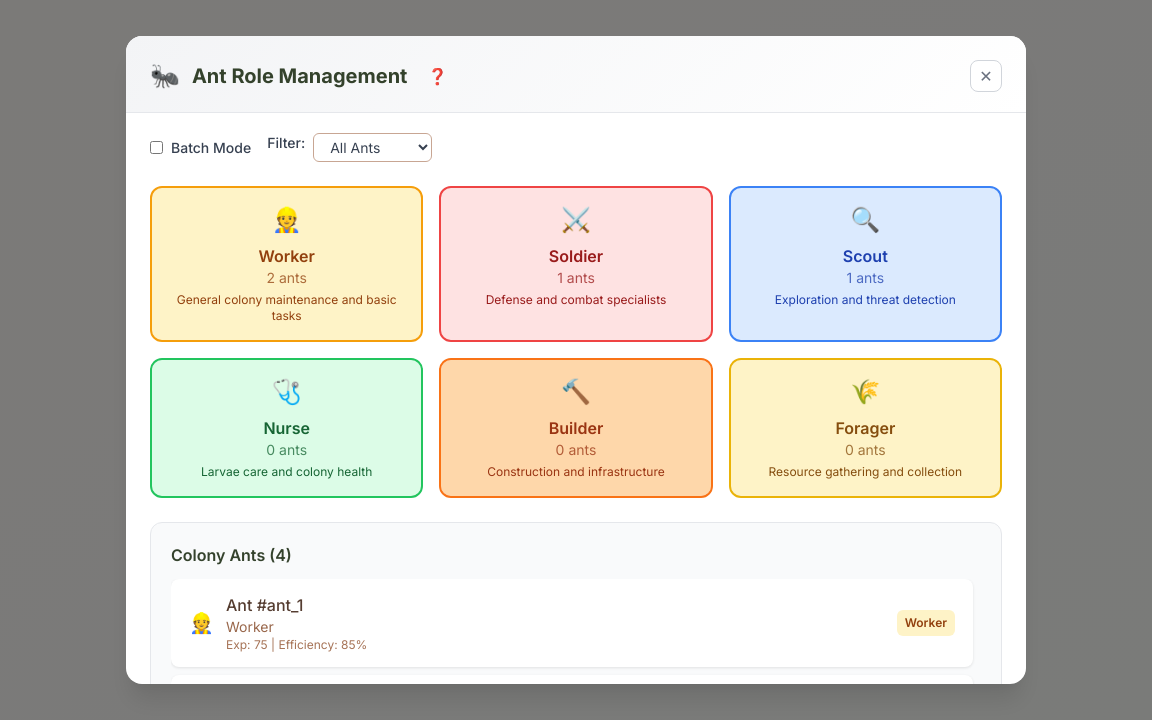
Test: AntRolePanel › Batch Mode › shows selected count in batch mode
Enable batch mode
Click the checkbox labelled "Batch Mode" at (156, 148), box [150,141,163,154]
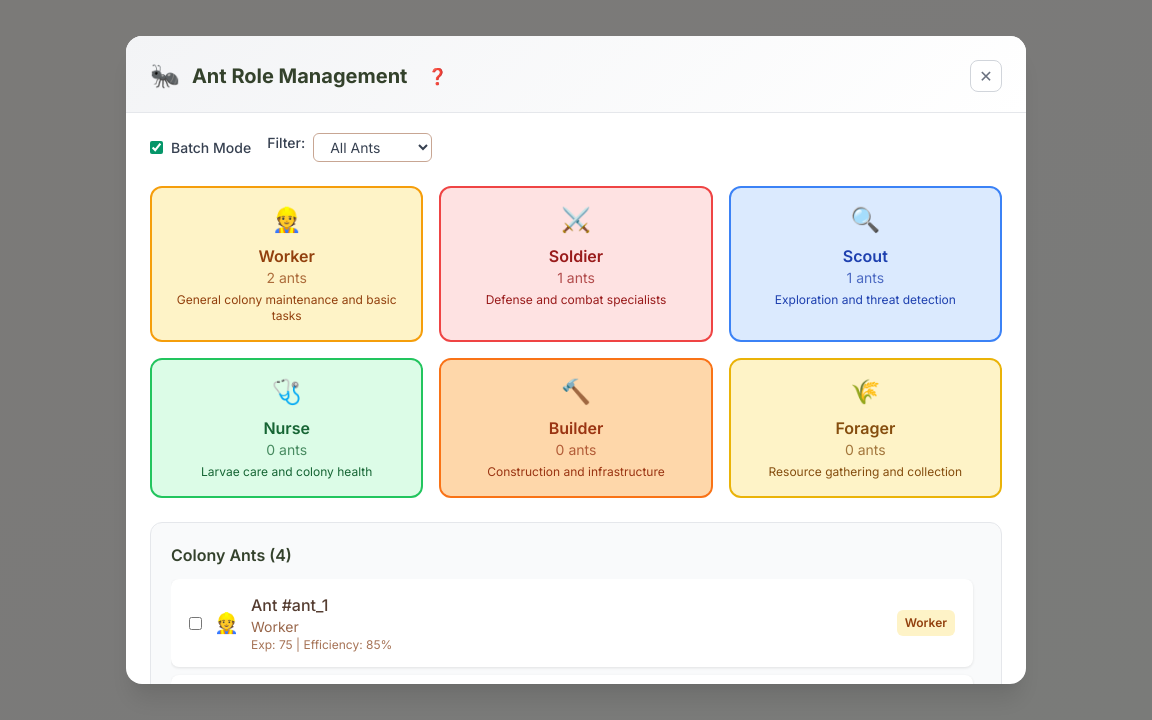
Select first ant
Click the 2nd checkbox at (196, 623), box [189,616,202,630]
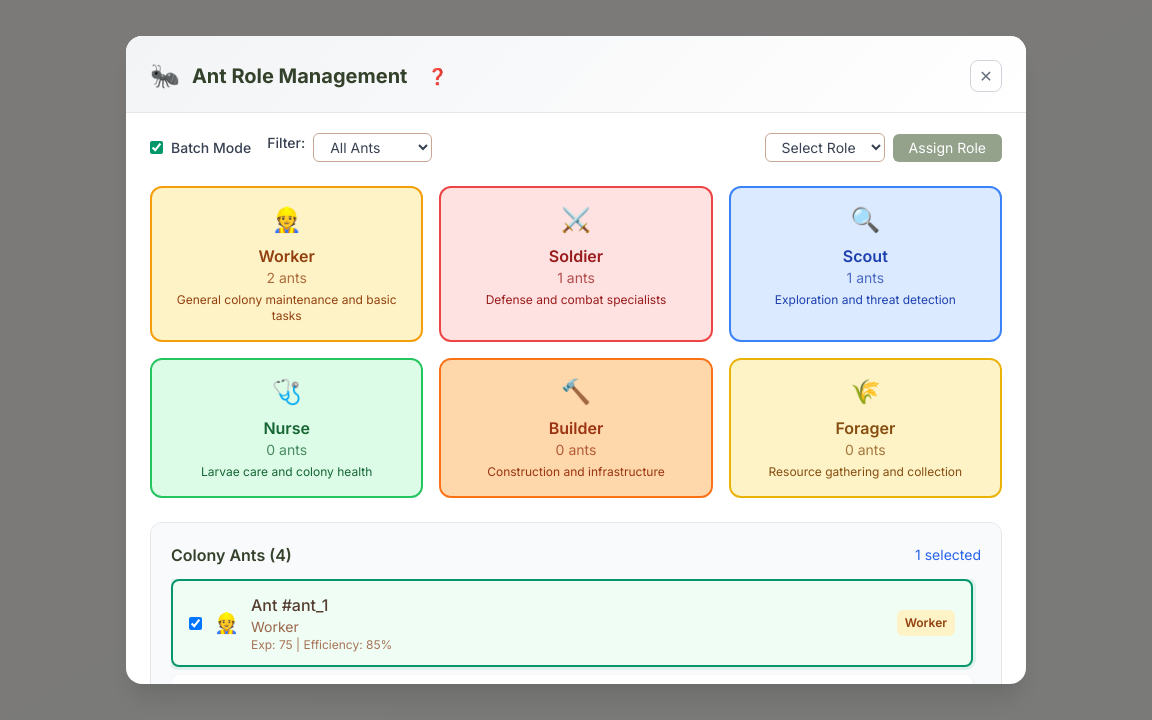
expect the text "1 selected" is shown: met, box [915,545,981,565]
